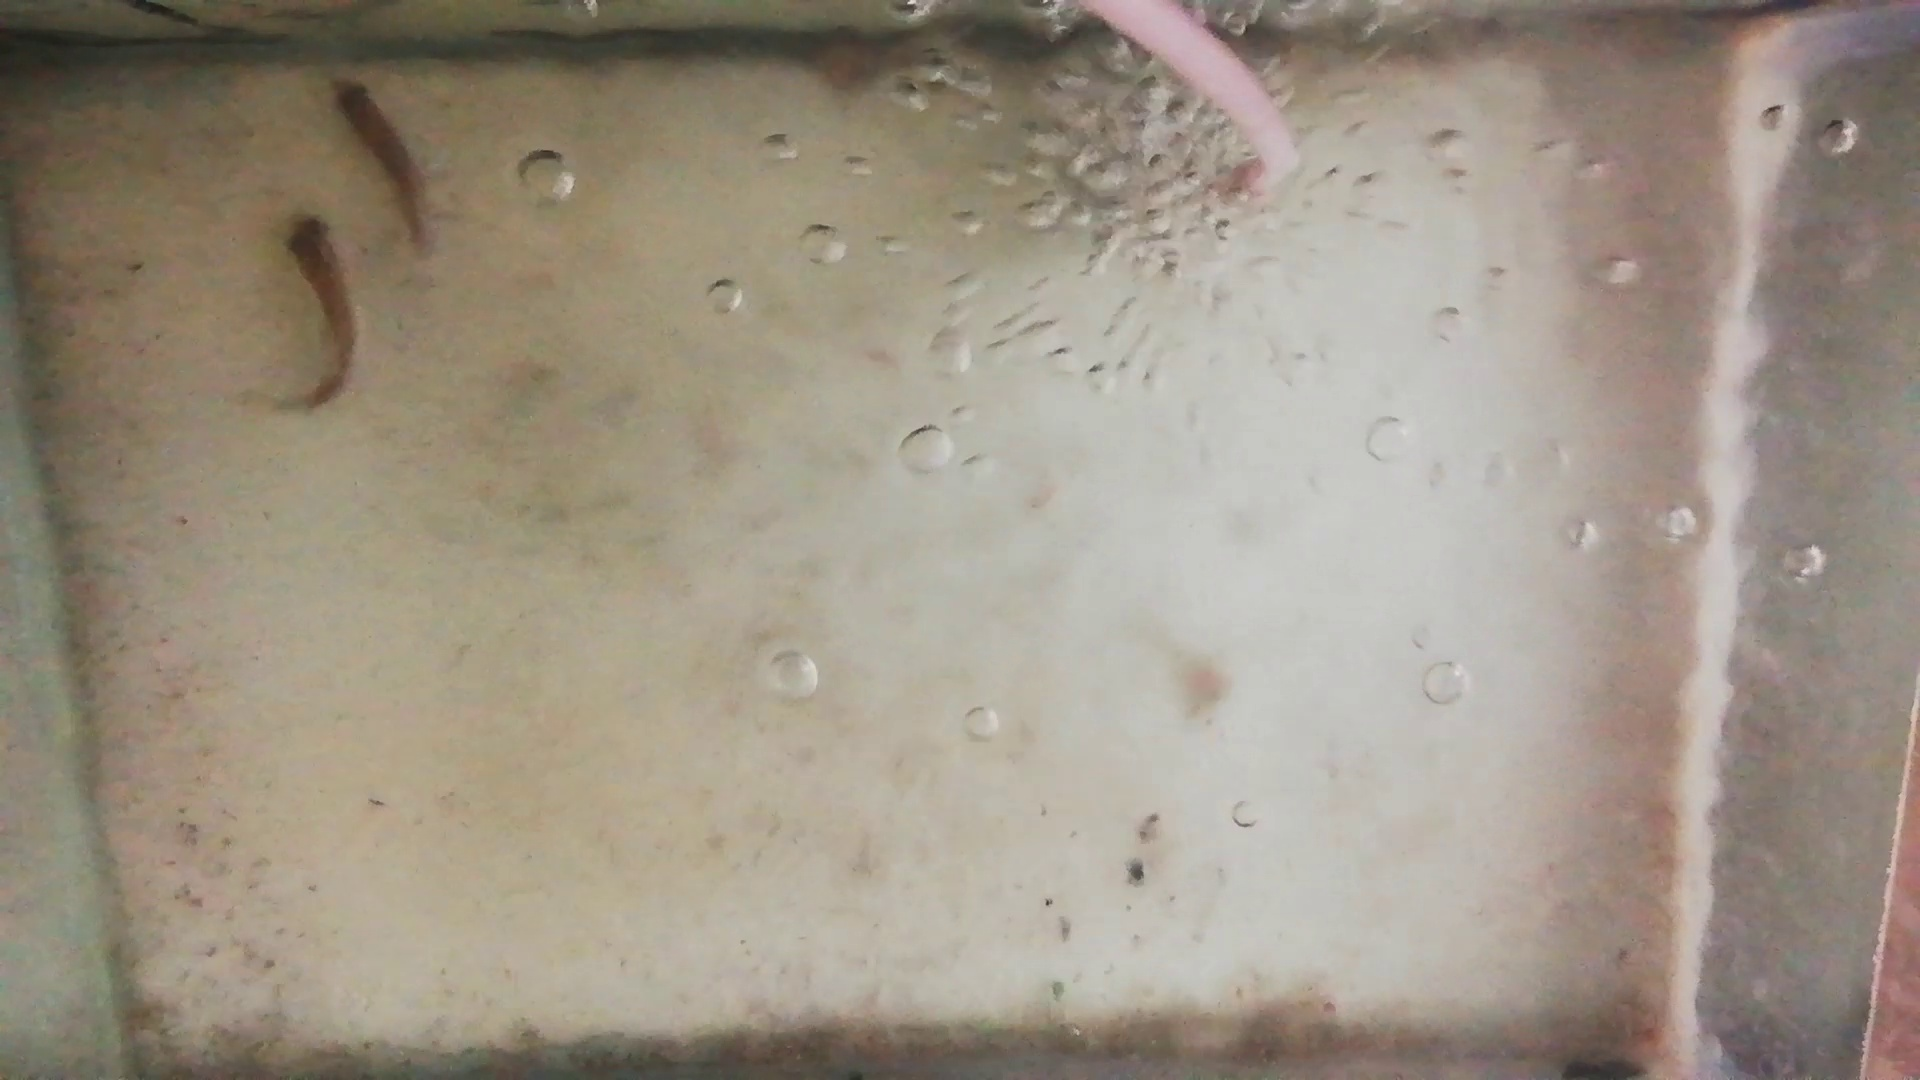fish: (327, 76, 426, 244), (284, 215, 355, 406)
